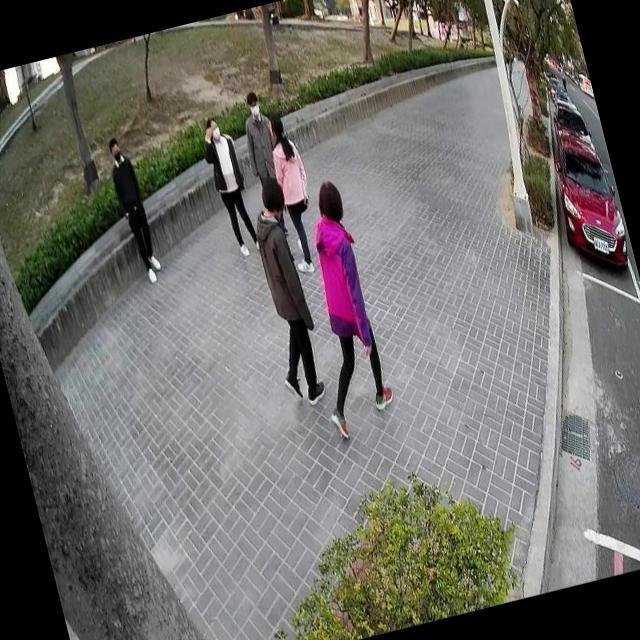person: (269, 169, 404, 446), (232, 169, 338, 412), (255, 101, 330, 278), (98, 126, 169, 290), (193, 108, 266, 262), (229, 84, 286, 188)
